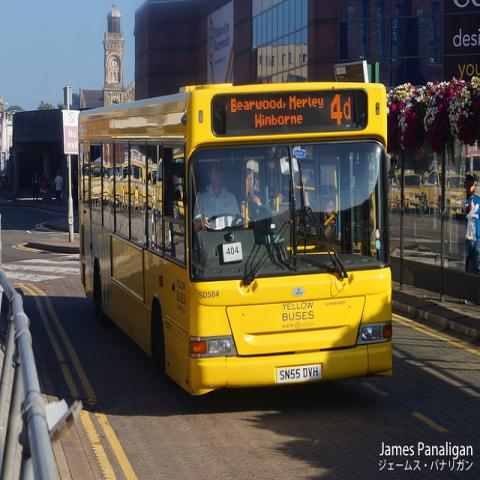bus: (80, 82, 392, 398)
